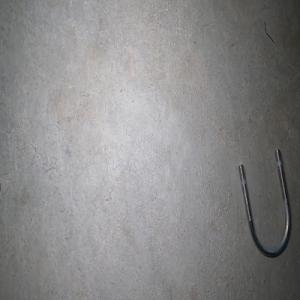ClampPart: (237, 147, 292, 258)
